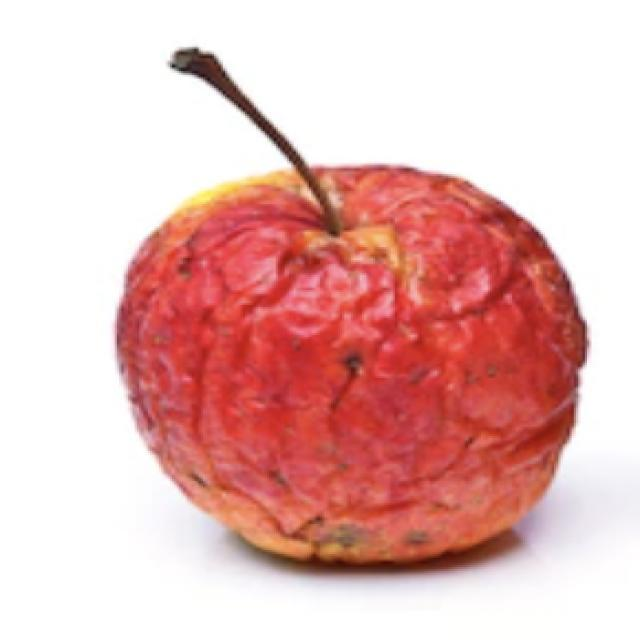Rotten: (110, 165, 603, 578)
